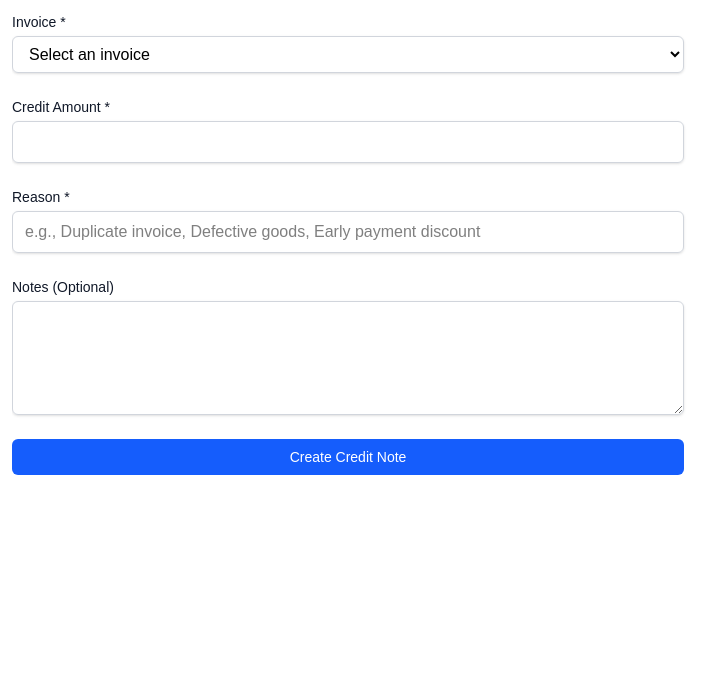
Test: CreateCreditNoteForm › asks before crediting more than is outstanding, and posts nothing yet
Select "INV-0001 - Due: 300.00 AUD" in the dropdown labelled "Invoice *": (348, 54) left=12, top=36, right=684, bottom=73
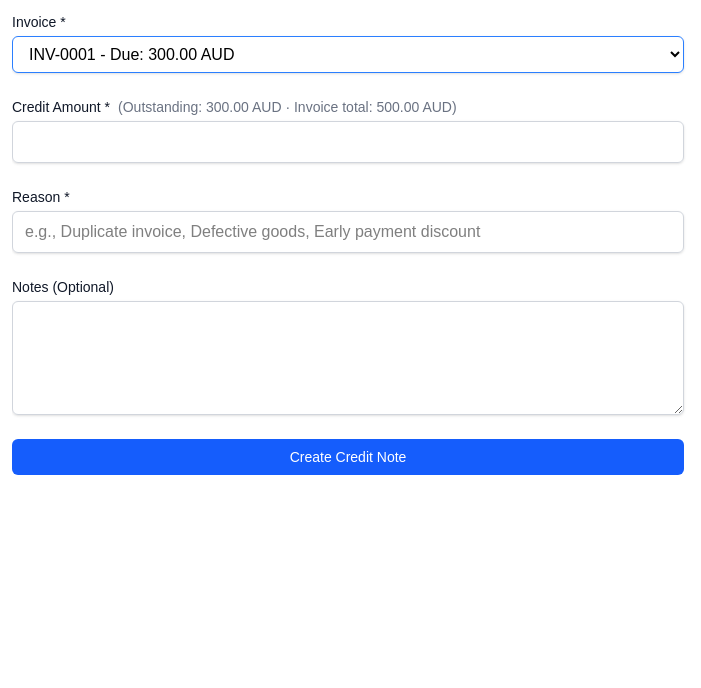
In the number field labelled "Credit Amount": (348, 142) left=12, top=121, right=684, bottom=163, type "400"
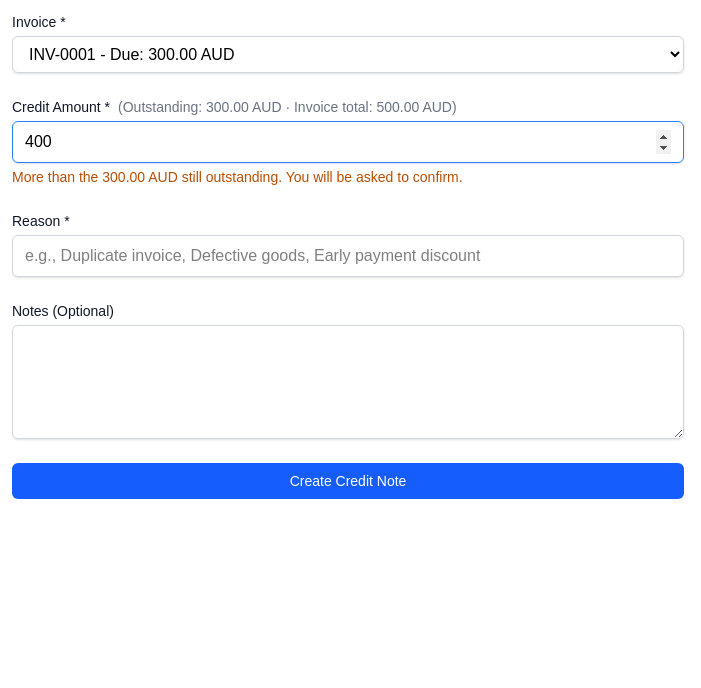
In the field labelled "Reason *": (348, 256) left=12, top=235, right=684, bottom=277, type "Returned goods"
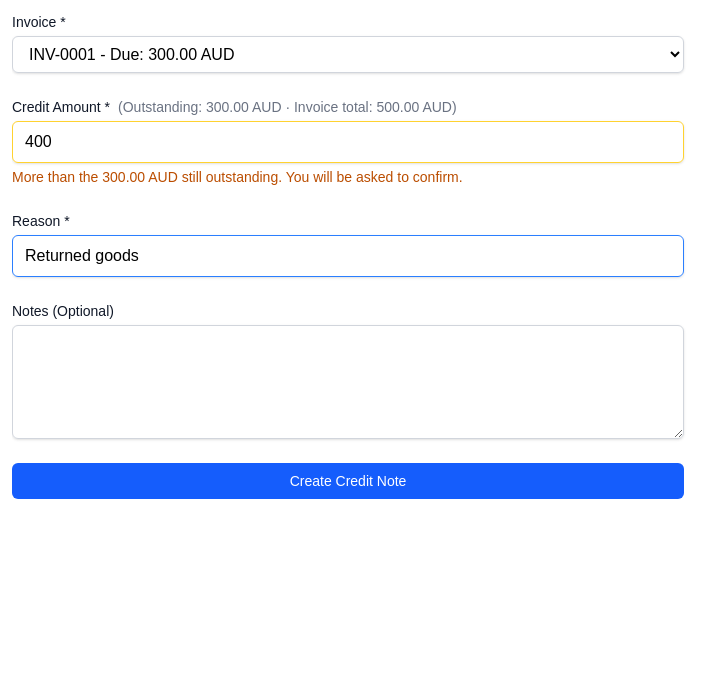
Click the button "Create Credit Note": (348, 481) left=12, top=463, right=684, bottom=499
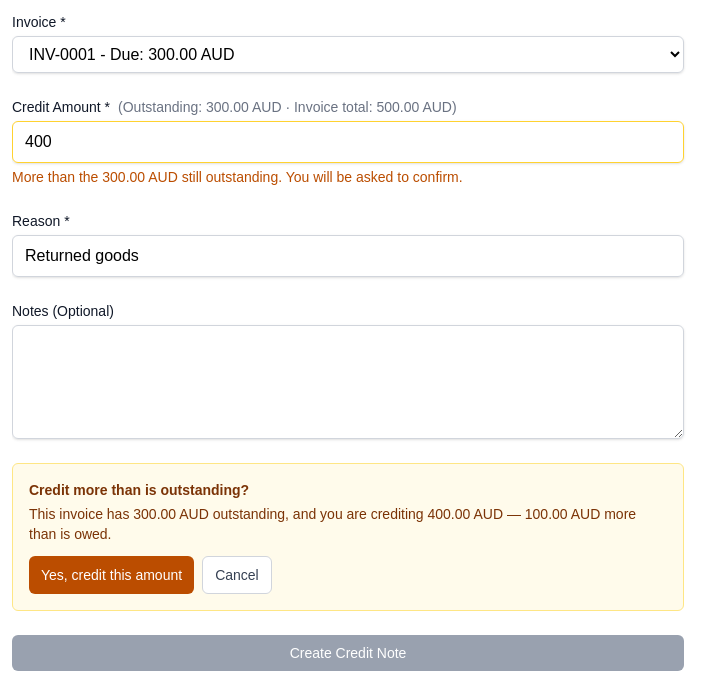
Result: the text "Credit more than is outstanding?" is shown at left=29, top=482, right=249, bottom=498
